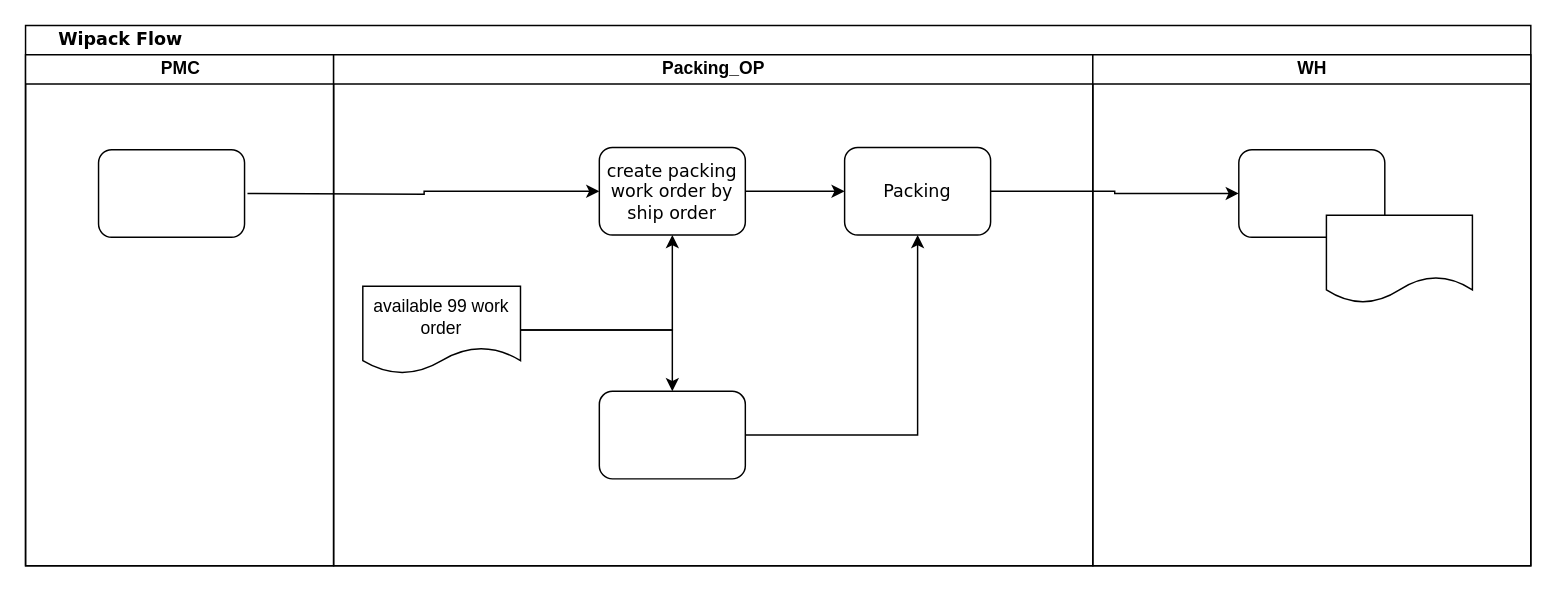
The diagram is 1556 pixels wide and 591 high, and some of its shapes have lost their labels. Each missing label, with the centre of its shape:
"create packing work order by inventory" goes at point (671, 434).
"create work order in E1 by interface?" goes at point (1398, 258).
"Generate demand in PRS" goes at point (171, 192).
"Update WH inventory in WiPack by PDR ID" goes at point (1311, 192).
